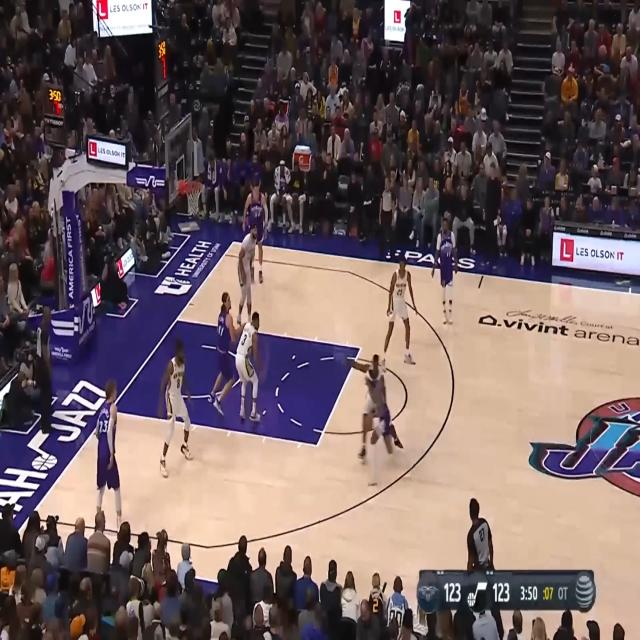Ball: (363, 411, 375, 433)
Hoop: (184, 179, 204, 215)
Period: (556, 583, 570, 603)
Player: (342, 352, 394, 458), (90, 377, 124, 533), (158, 342, 195, 476), (208, 290, 242, 420), (364, 369, 398, 491), (383, 257, 417, 365), (429, 215, 458, 328), (235, 309, 262, 420), (242, 178, 268, 286), (235, 223, 258, 326)
Ref: (464, 498, 502, 624), (33, 306, 58, 438), (379, 172, 396, 256)
Shot Clock: (543, 585, 554, 603)
Team Points: (442, 579, 464, 605), (492, 580, 513, 604)
Time Remaining: (518, 580, 540, 604)
